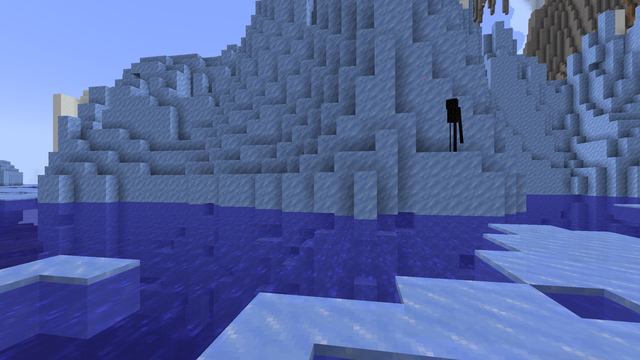endermens: (445, 96, 460, 140)
